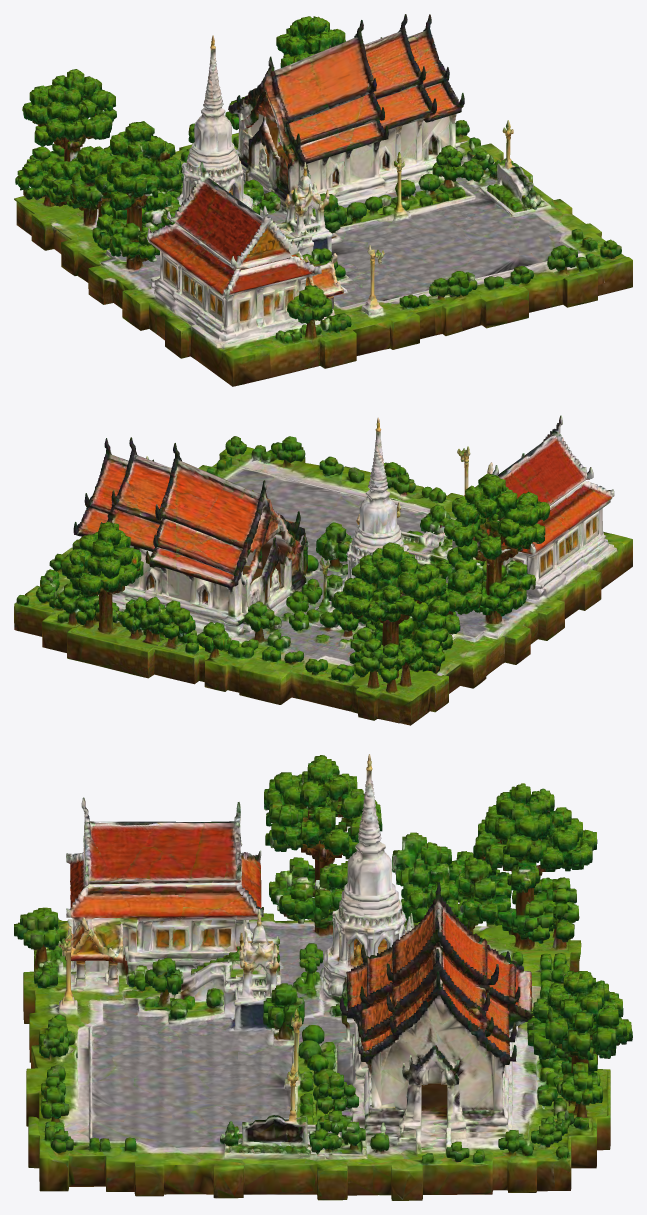
Rendered from sao-thong-thong.ar.glb.
3 views of the same model, one above another, from view 1: azimuth 30°, elevation 25°; view 2: azimuth 150°, elevation 25°; view 3: azimuth 270°, elevation 25° (orthographic). The views are drawn at different scales.
Size of the model in its own units: 0.3951 by 0.1921 by 0.4.
Materials: 1 (1 with a texture image).
